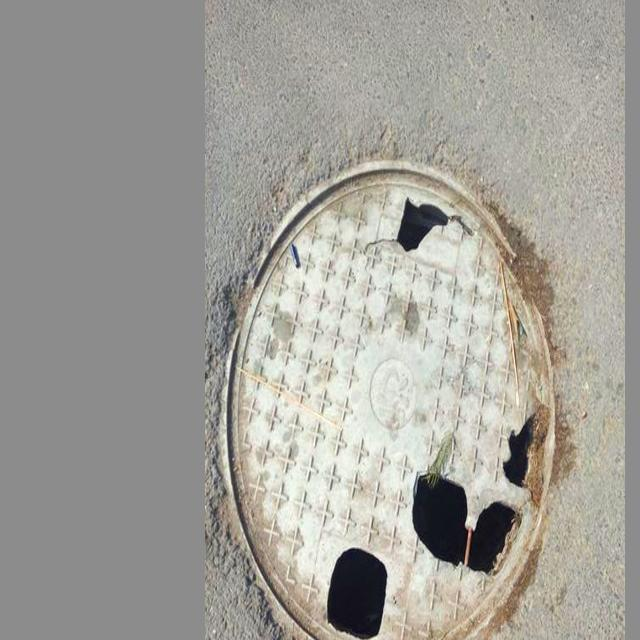broke: (219, 144, 580, 640)
